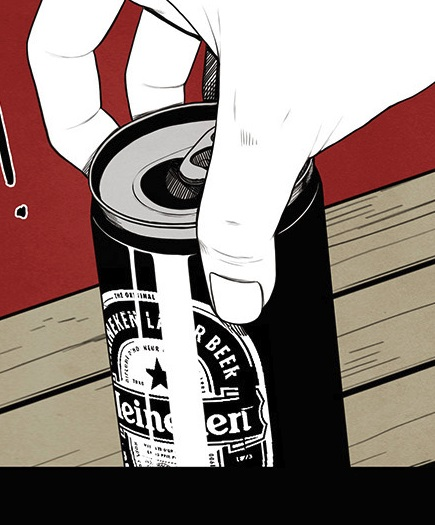beer: (79, 99, 353, 466)
can: (76, 93, 354, 465)
